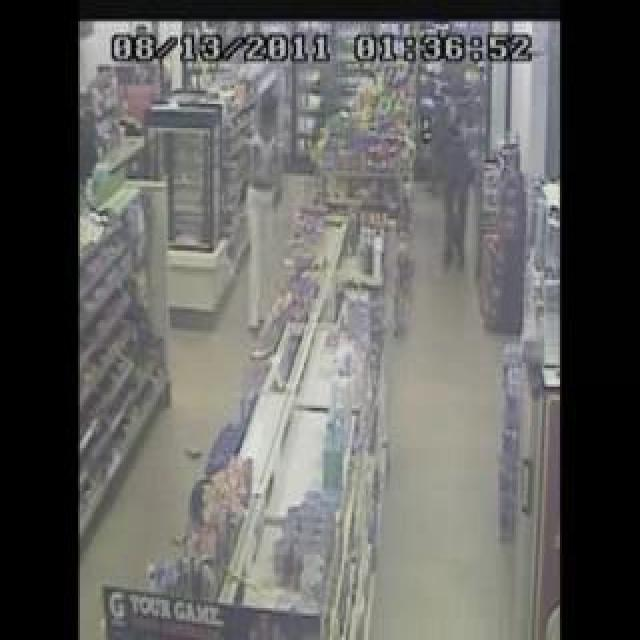thief: (426, 68, 498, 204), (216, 125, 294, 231)
